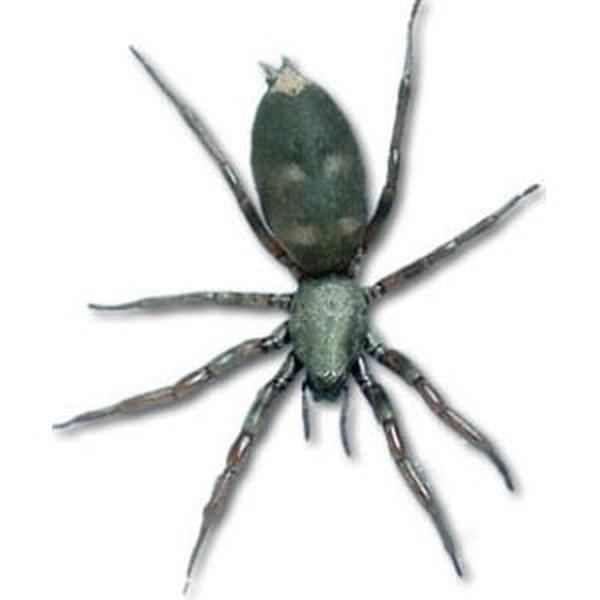White-Tailed Spider: (111, 20, 539, 580)
